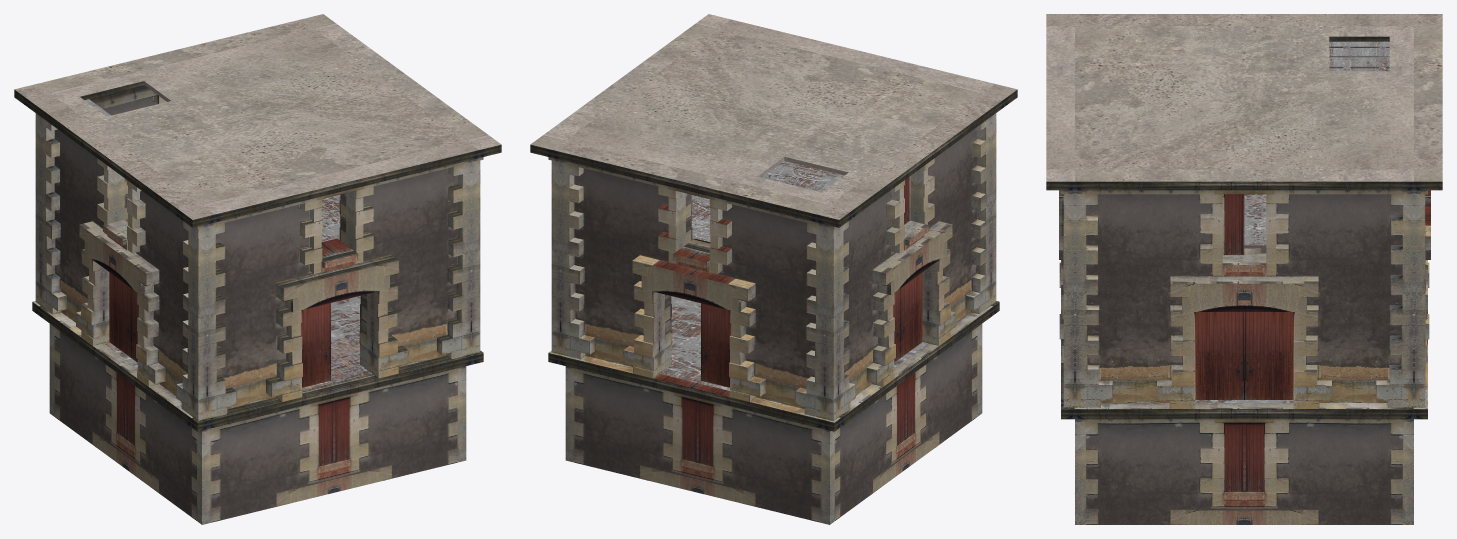
Rendered from BagBuilding17High.fbx.
3 views of the same model, side by side, from view 1: azimuth 30°, elevation 25°; view 2: azimuth 150°, elevation 25°; view 3: azimuth 270°, elevation 25° (orthographic). The views are drawn at different scales.
Parts seen in each view (by area): view 1: mainA300, roofA300, stairsfloorsA300; view 2: mainA300, roofA300, stairsfloorsA300; view 3: mainA300, roofA300, stairsfloorsA300.
Boxes of the visible parts, x1=… form: mainA300: x1=14, y1=81, x2=501, y2=524; roofA300: x1=14, y1=14, x2=501, y2=219; stairsfloorsA300: x1=84, y1=99, x2=371, y2=390; mainA300: x1=530, y1=89, x2=1017, y2=524; roofA300: x1=530, y1=14, x2=1017, y2=219; stairsfloorsA300: x1=660, y1=161, x2=927, y2=390; mainA300: x1=1046, y1=36, x2=1442, y2=524; roofA300: x1=1046, y1=14, x2=1442, y2=181; stairsfloorsA300: x1=1195, y1=41, x2=1389, y2=402.
Bounding box in the file's own units: 17.69 × 17.5 × 17.69.
